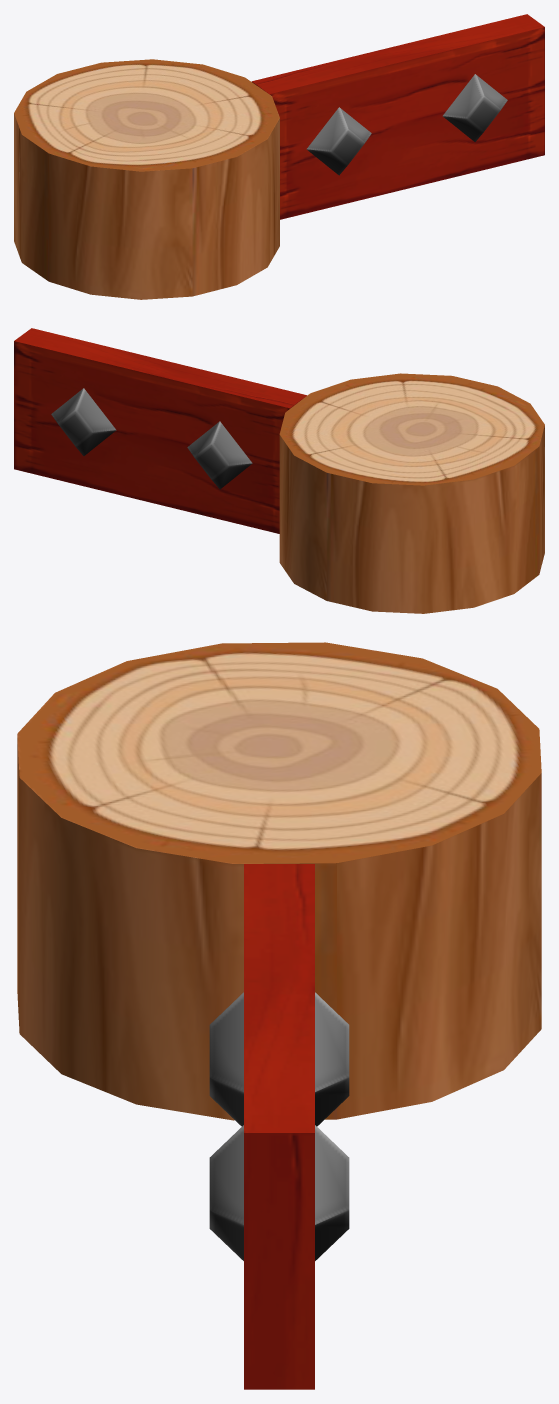
File: one_blade_red_01.fbx
3 views of the same model, one above another, from view 1: azimuth 30°, elevation 25°; view 2: azimuth 150°, elevation 25°; view 3: azimuth 270°, elevation 25° (orthographic). The views are drawn at different scales.
Visible parts, largest first — view 1: one_blade_red_01; view 2: one_blade_red_01; view 3: one_blade_red_01.
Part boxes in pixels (x1,y1,x2,y2): one_blade_red_01: (14,14,544,299); one_blade_red_01: (14,328,544,613); one_blade_red_01: (17,642,541,1389).
Size of the model in its own units: 164 by 40 by 74.15.
